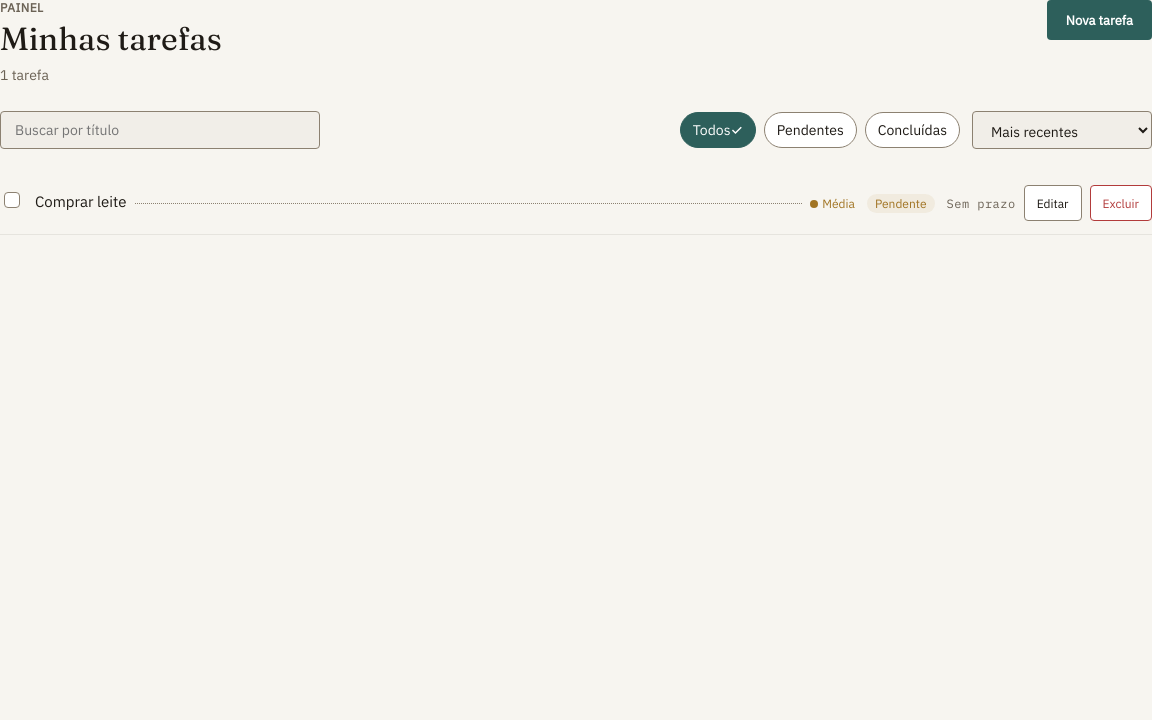
Test case: TasksDashboardPage — CRUD › edits a task: PUT sends the full payload including isCompleted
Click the button named "Editar \"Comprar leite\"" at (1053, 203), box [1024,185,1082,221]
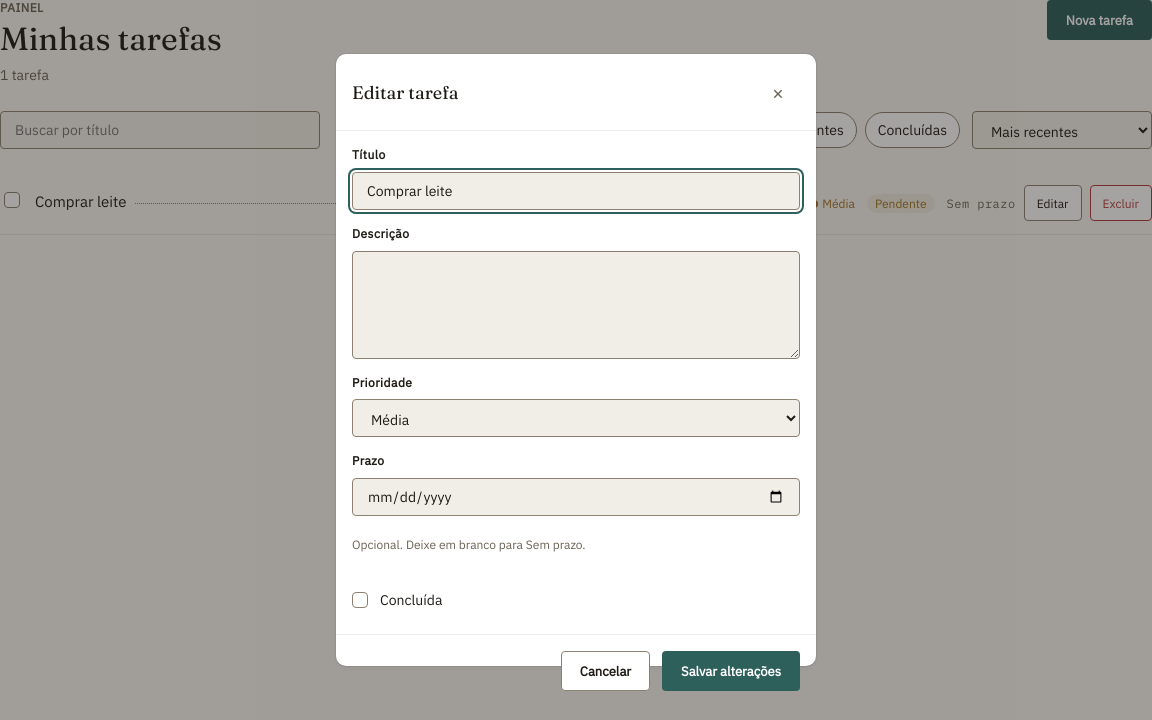
Replace the text in the field labelled "Título" with "Comprar pão" at (576, 191), box [352,172,800,210]
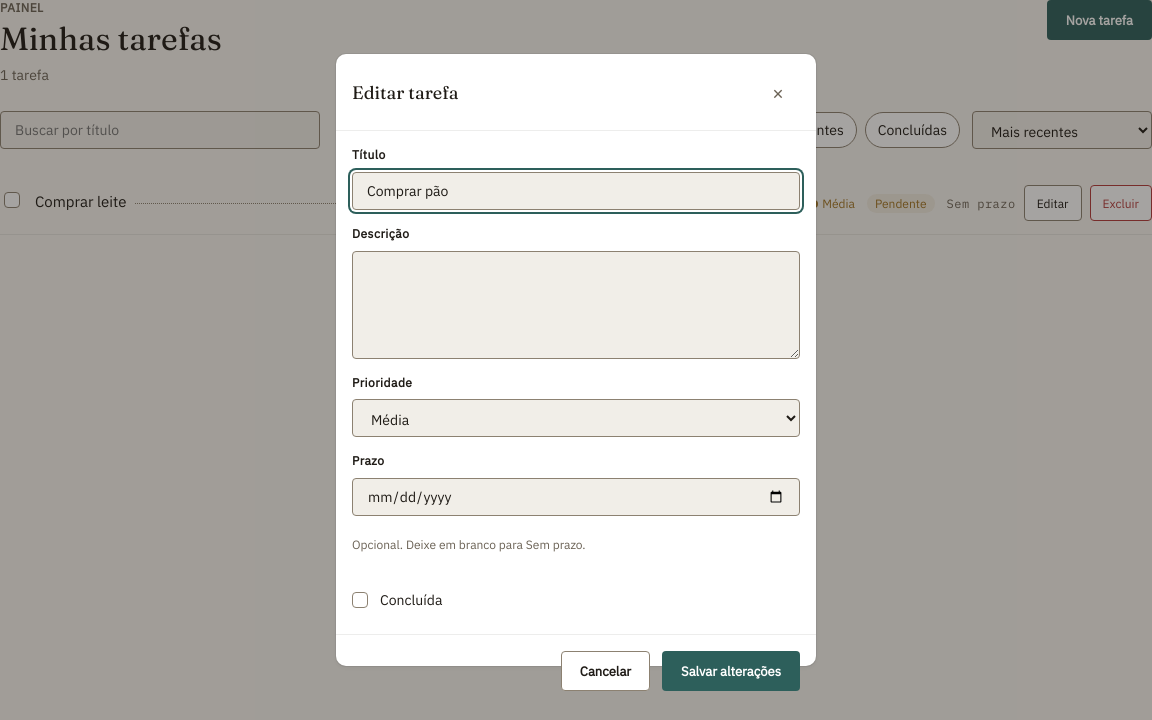
Click the button "Salvar alterações" at (731, 671), box [662,651,800,691]
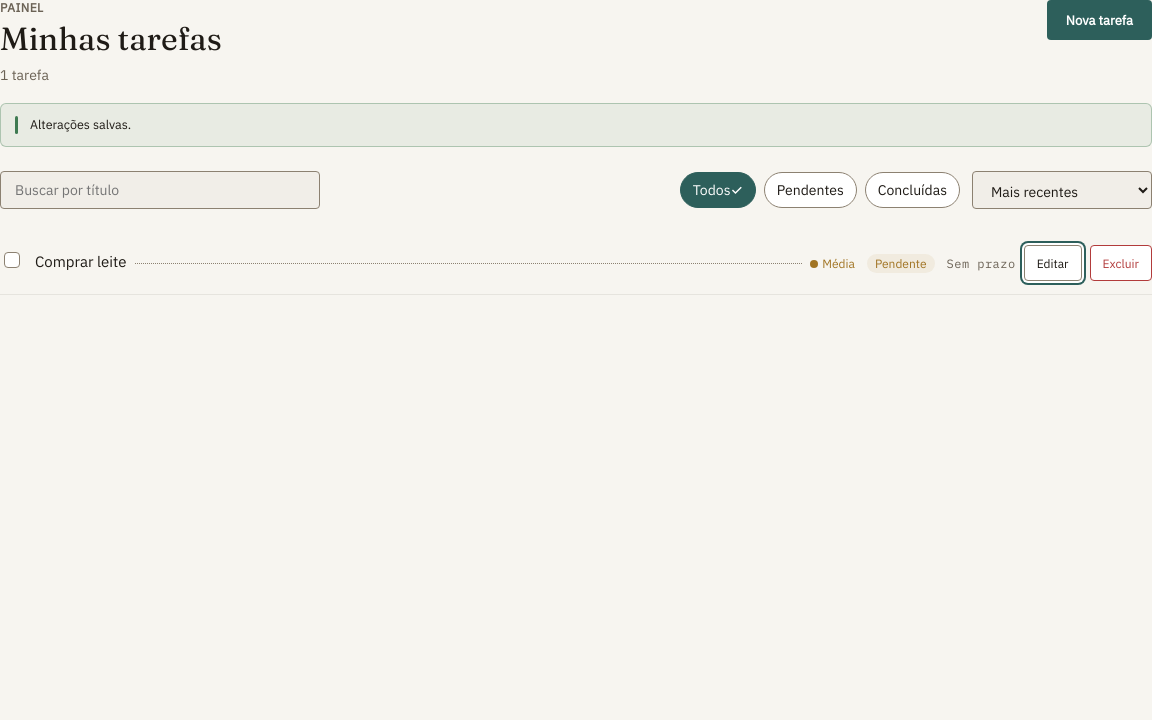
Now the dialog is gone
